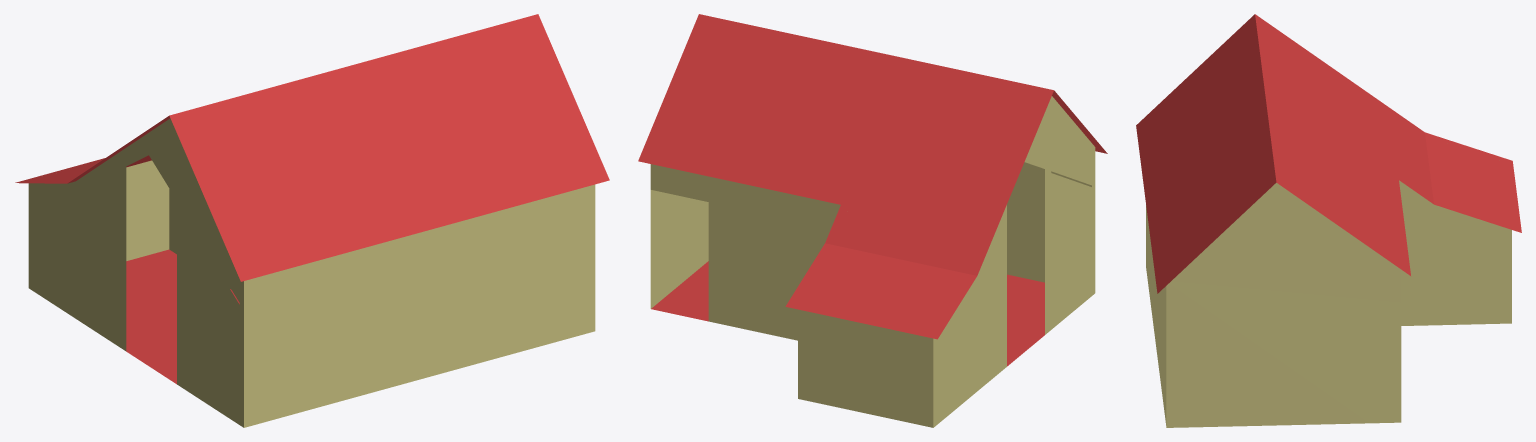
3 renders of one model, left to right at view 1: azimuth 30°, elevation 25°; view 2: azimuth 150°, elevation 25°; view 3: azimuth 270°, elevation 25°, orthographic. The views are drawn at different scales.
Bounding box in the file's own units: 22.02 × 20.27 × 14.31.
